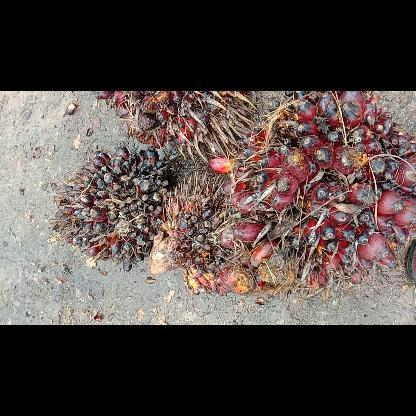Kurang masak: (219, 91, 414, 299)
TBS abnormal: (48, 146, 180, 270), (148, 170, 230, 294)
TBS masak: (94, 91, 258, 163)
